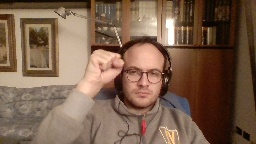Pugno: (81, 46, 125, 88)
